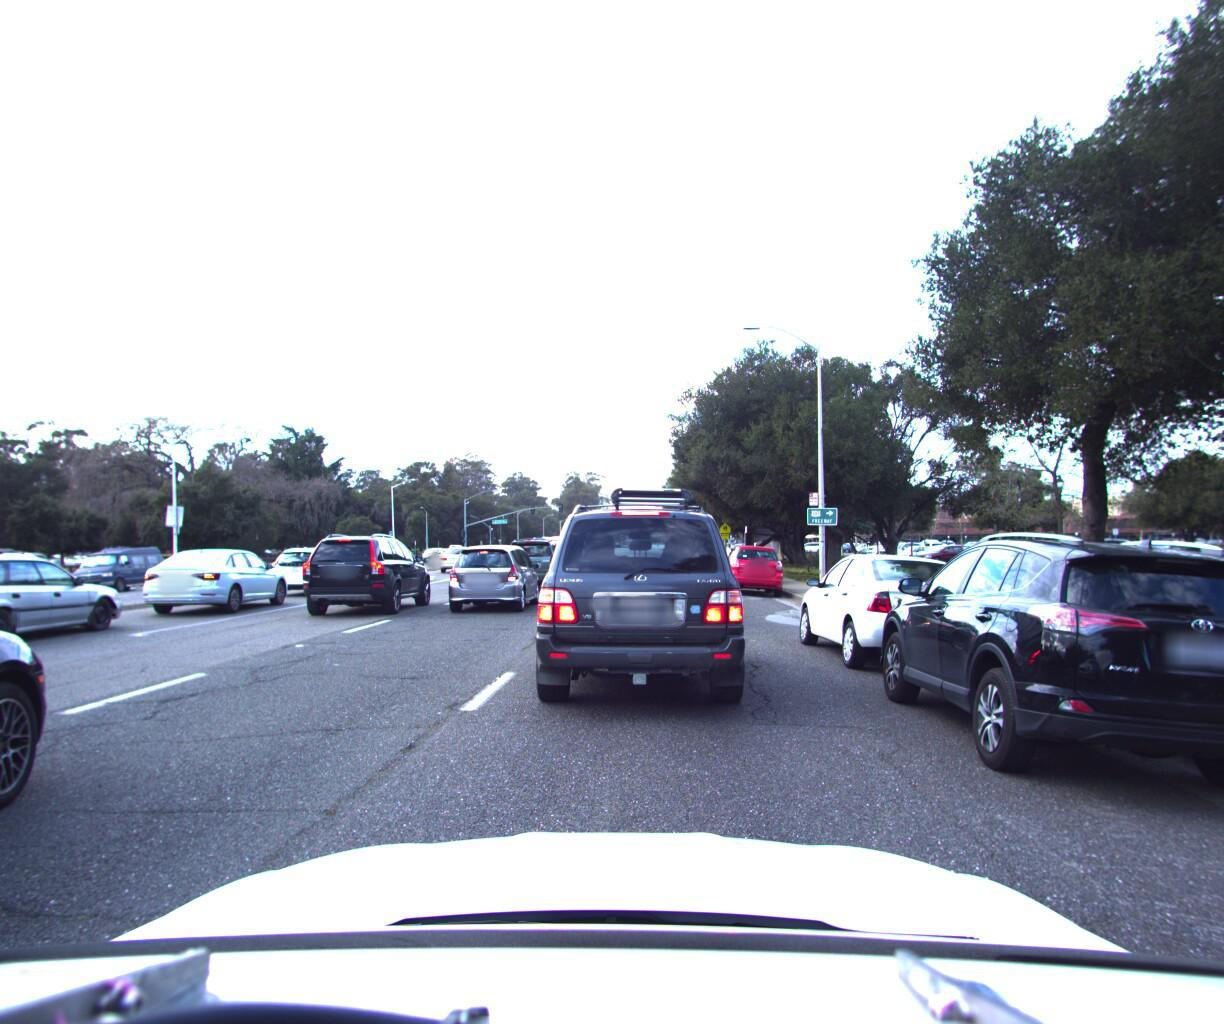car: (856, 517, 1224, 829), (518, 472, 751, 725), (0, 521, 90, 1024), (787, 543, 1018, 680), (0, 543, 138, 667), (299, 528, 435, 618), (134, 543, 301, 616), (443, 541, 546, 611), (265, 542, 377, 596), (69, 542, 176, 595), (498, 532, 570, 592), (714, 537, 787, 591), (0, 549, 62, 611), (432, 538, 484, 568)
